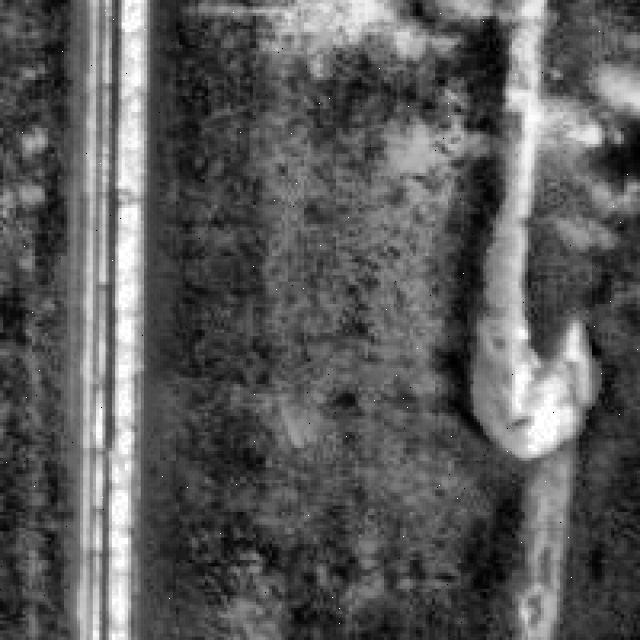Inclusion: (54, 0, 157, 637), (490, 0, 570, 560), (451, 272, 592, 454)
